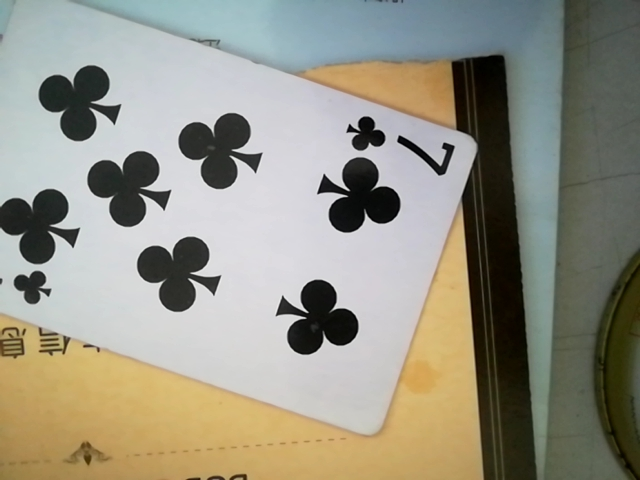mh 7: (0, 8, 494, 434)
